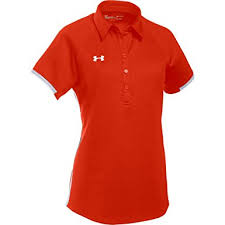S_polo shirt: (39, 1, 195, 224)
